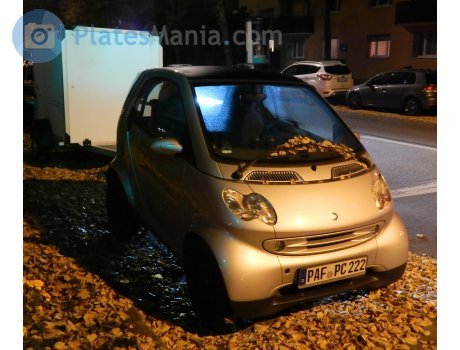License Plates: (308, 264, 367, 274)
